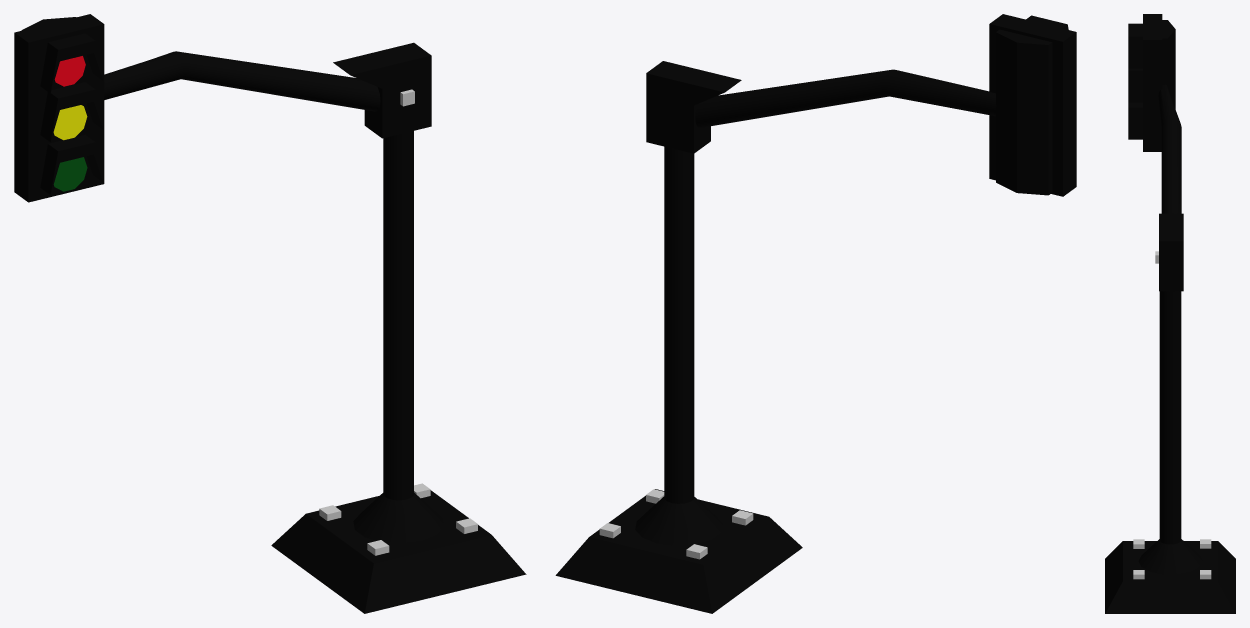
File: SemaforoTransitoLOD0.fbx
The picture shows the model from 3 angles, left to right: view 1: azimuth 30°, elevation 25°; view 2: azimuth 150°, elevation 25°; view 3: azimuth 270°, elevation 25°; orthographic projection. The views are drawn at different scales.
Parts seen in each view (by area): view 1: Semaforo; view 2: Semaforo; view 3: Semaforo.
Part boxes in pixels (x1,y1,x2,y2): Semaforo: [14, 14, 526, 613]; Semaforo: [555, 14, 1076, 613]; Semaforo: [1105, 14, 1235, 613].
Size of the model in its own units: 355 by 451 by 122.
